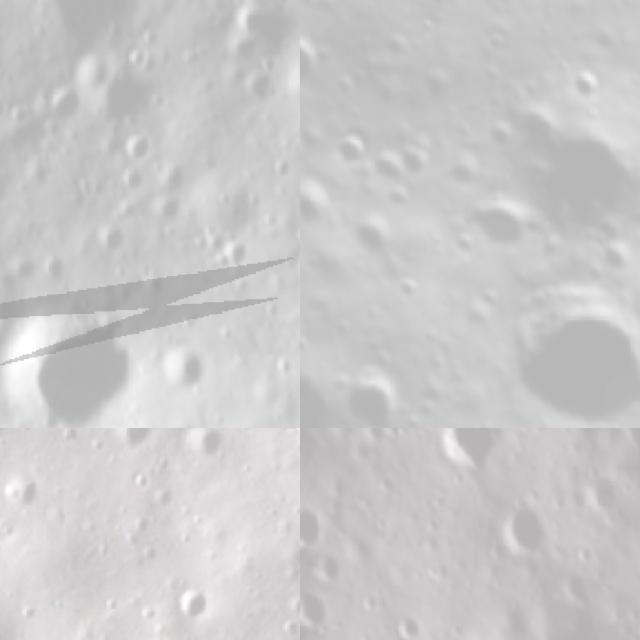crater: (472, 59, 640, 282), (479, 240, 640, 428), (0, 304, 138, 428), (14, 0, 157, 55), (462, 181, 547, 266), (333, 355, 422, 428), (526, 585, 630, 640), (493, 495, 559, 568), (300, 353, 354, 428), (300, 13, 342, 102), (162, 332, 216, 396), (348, 208, 402, 264), (300, 175, 348, 236), (439, 428, 506, 471), (565, 57, 617, 110), (592, 229, 640, 286), (330, 122, 380, 174), (42, 83, 92, 132), (392, 136, 441, 184), (387, 264, 435, 311), (478, 111, 526, 158), (439, 148, 485, 196), (96, 428, 162, 460), (168, 580, 216, 624), (419, 59, 463, 105), (214, 236, 261, 279), (300, 587, 337, 640), (180, 428, 229, 466), (241, 65, 282, 108), (376, 22, 417, 65), (300, 503, 333, 555), (444, 223, 485, 264), (121, 125, 165, 162), (236, 0, 277, 39), (151, 188, 189, 230), (370, 147, 409, 186), (4, 471, 44, 508), (472, 276, 510, 314), (382, 177, 420, 215), (300, 106, 319, 180), (122, 511, 156, 542), (119, 169, 150, 200), (152, 485, 178, 516)
